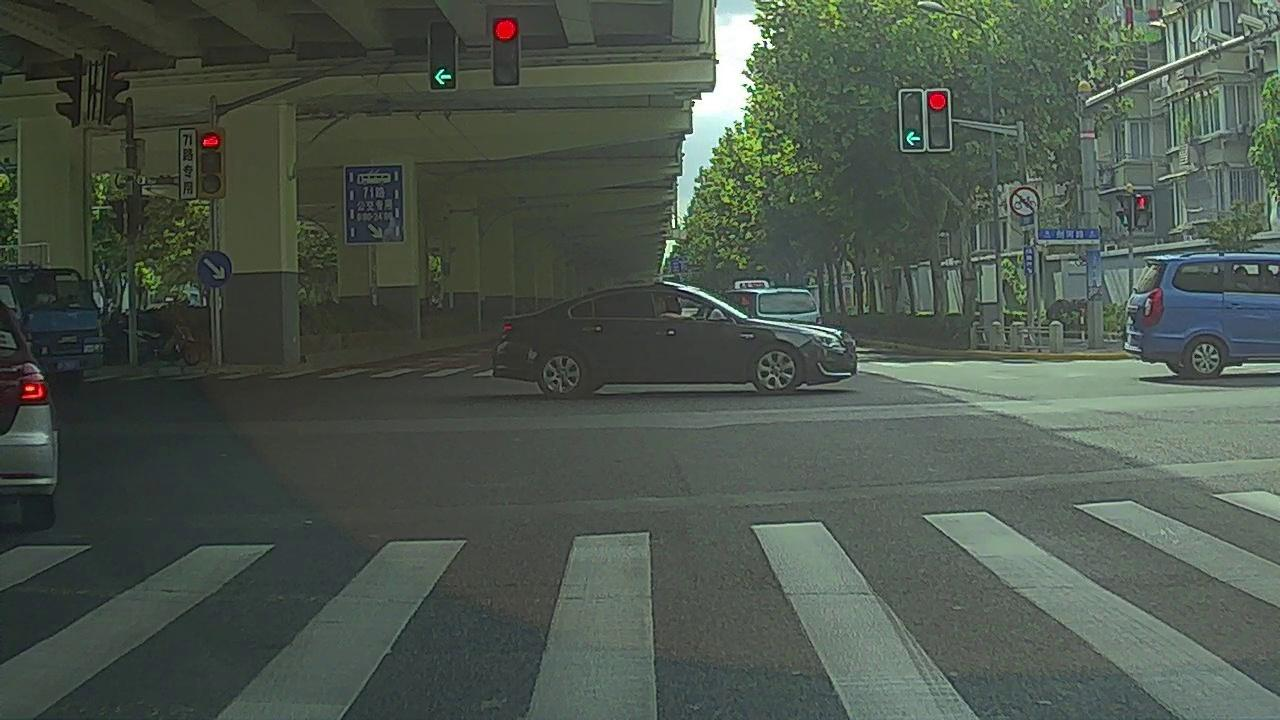traffic_light: (426, 14, 460, 91), (899, 88, 929, 151), (492, 16, 519, 84), (925, 90, 952, 149)
